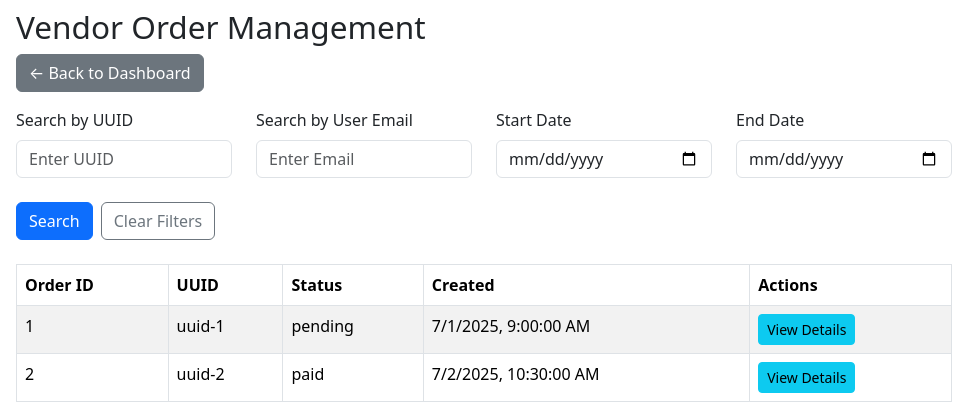
Scenario: VendorOrderManagement › filters by UUID and email when Search is clicked
This screenshot has width=969, height=419.
Check: the text "uuid-1" is shown, box [168,305,283,353]
fill in filters
Type "uuid-2" into the field labelled "Search by UUID". click: (124, 159)
box: [16,140,232,178]
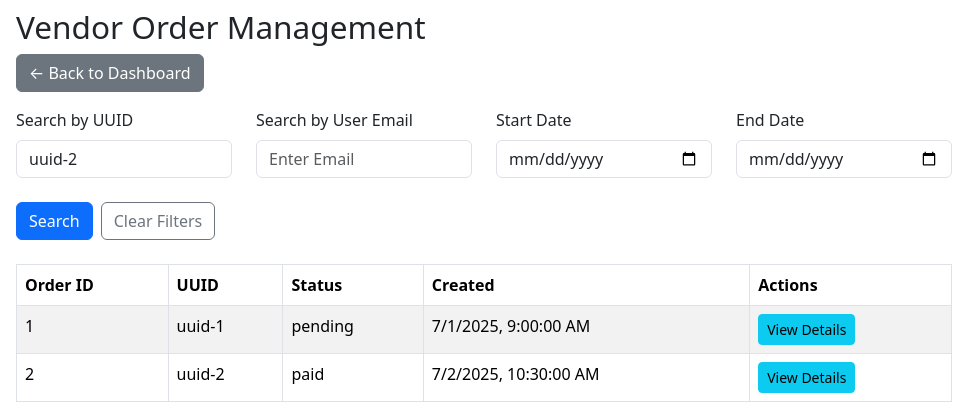
Type "foo@example.com" into the field labelled "Search by User Email". click: (364, 159)
box: [256,140,472,178]
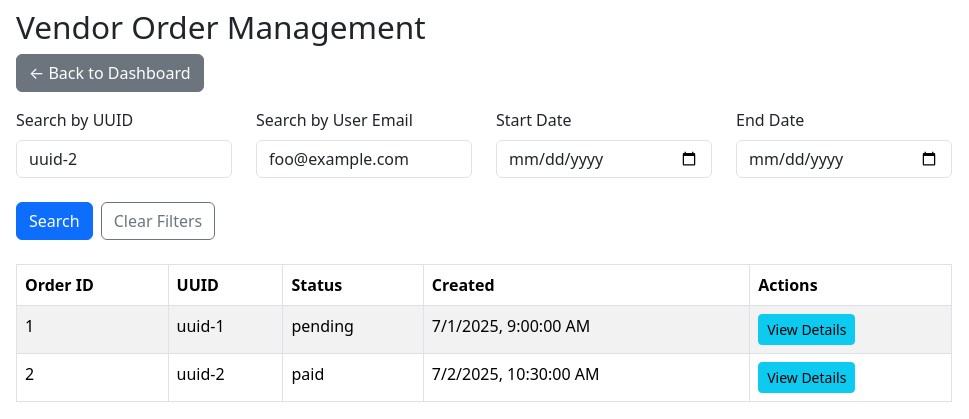
click Search
Click the button "Search". click: (54, 221)
box: [16,202,93,240]
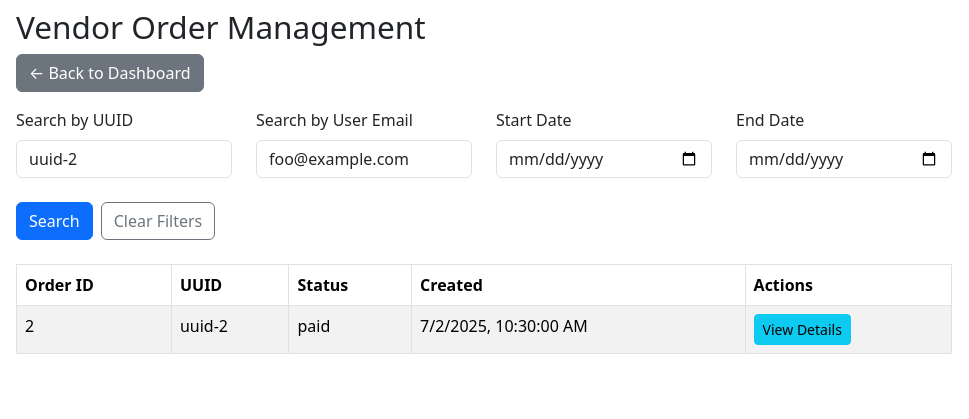
Check: the text "uuid-2" is shown, box [171,305,289,353]
Check: the text "uuid-1" is gone
